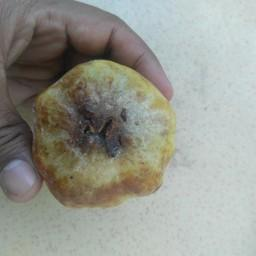Bad_guava: (30, 58, 182, 222)
